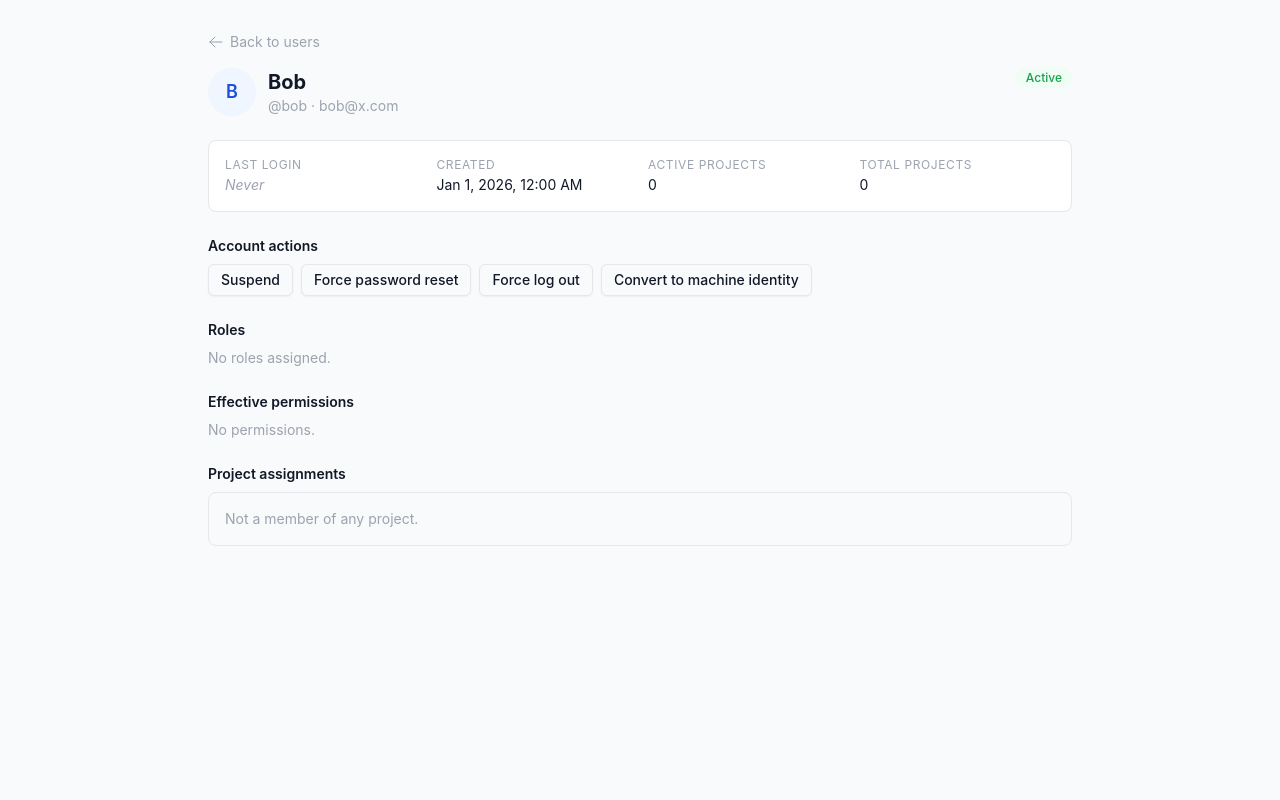
Test: UserDetailPage — convert to machine identity › shows a success note naming the created identity on migrate success
Click the button "Convert to machine identity": (706, 280) [601,264,812,296]
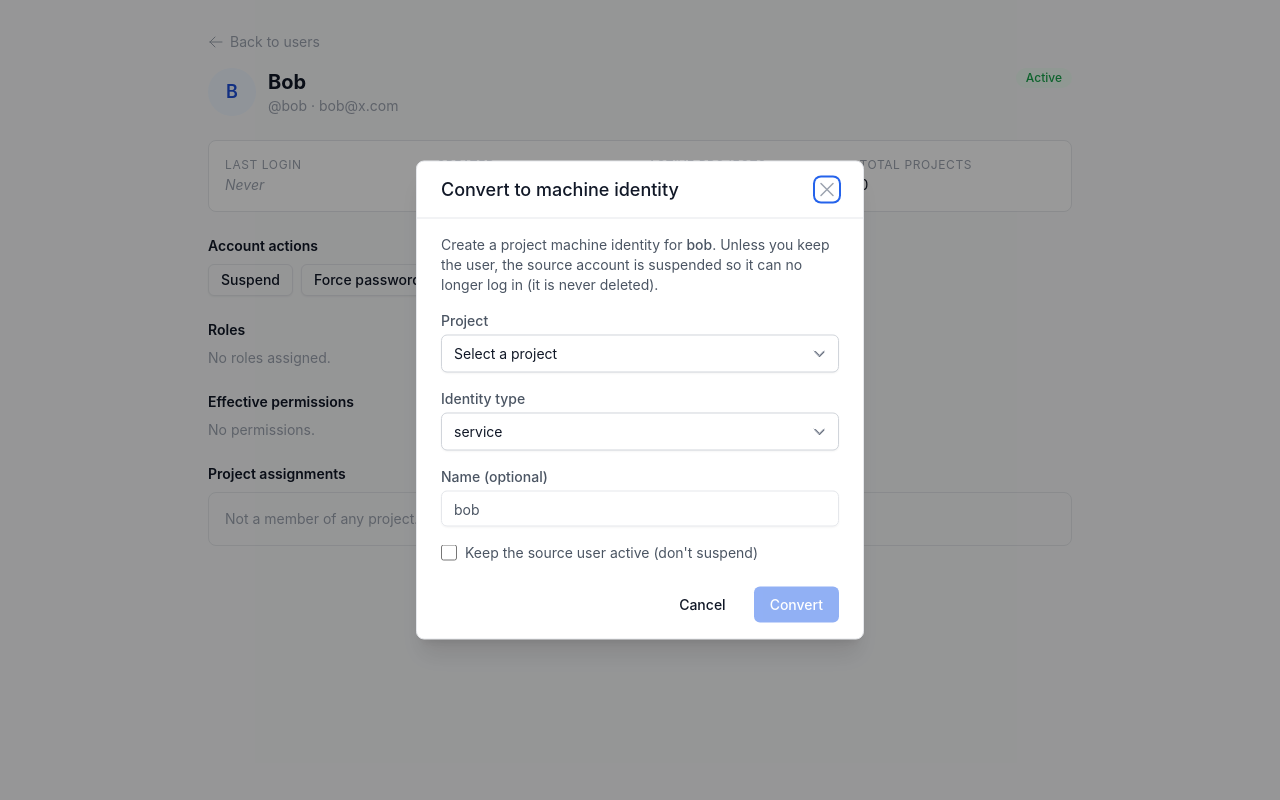
Select "platform" in the dropdown labelled "Project": (640, 354) [441,334,839,372]
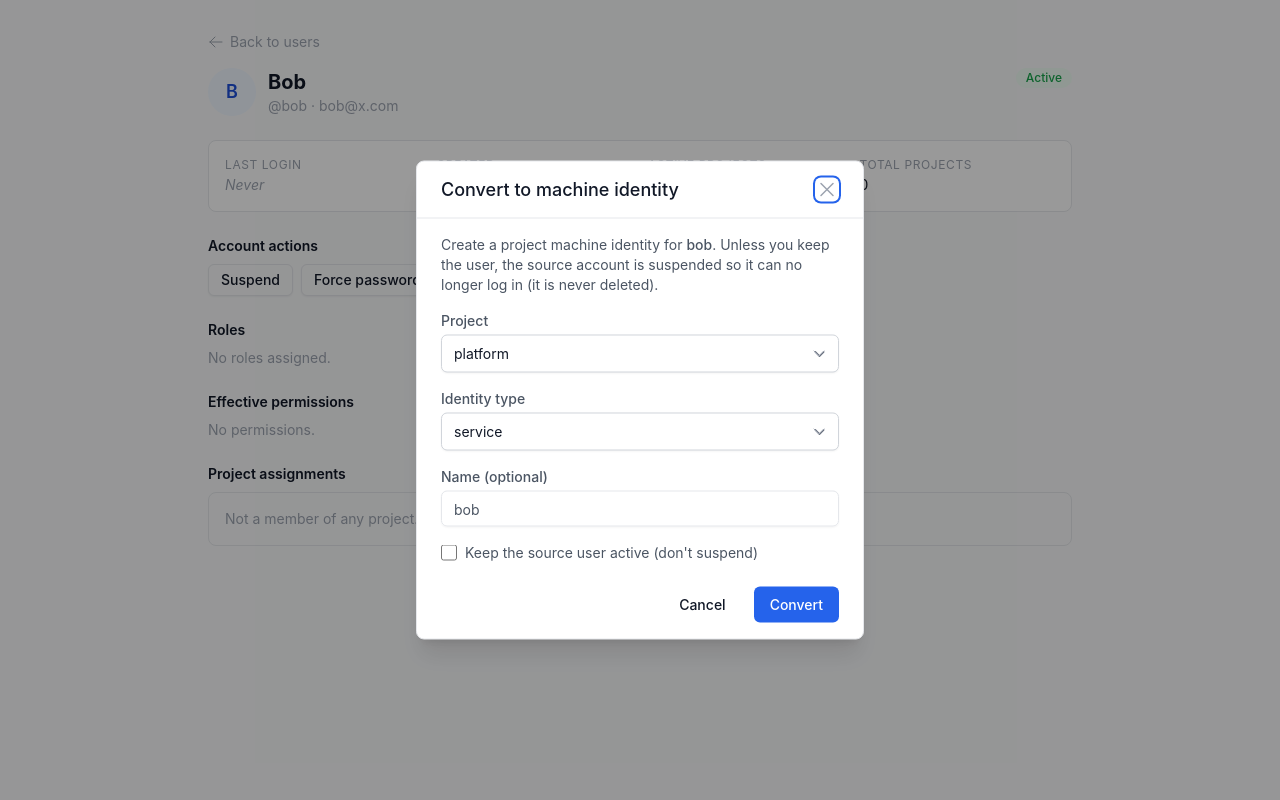
Click the button "Convert": (796, 604) [754,586,839,622]
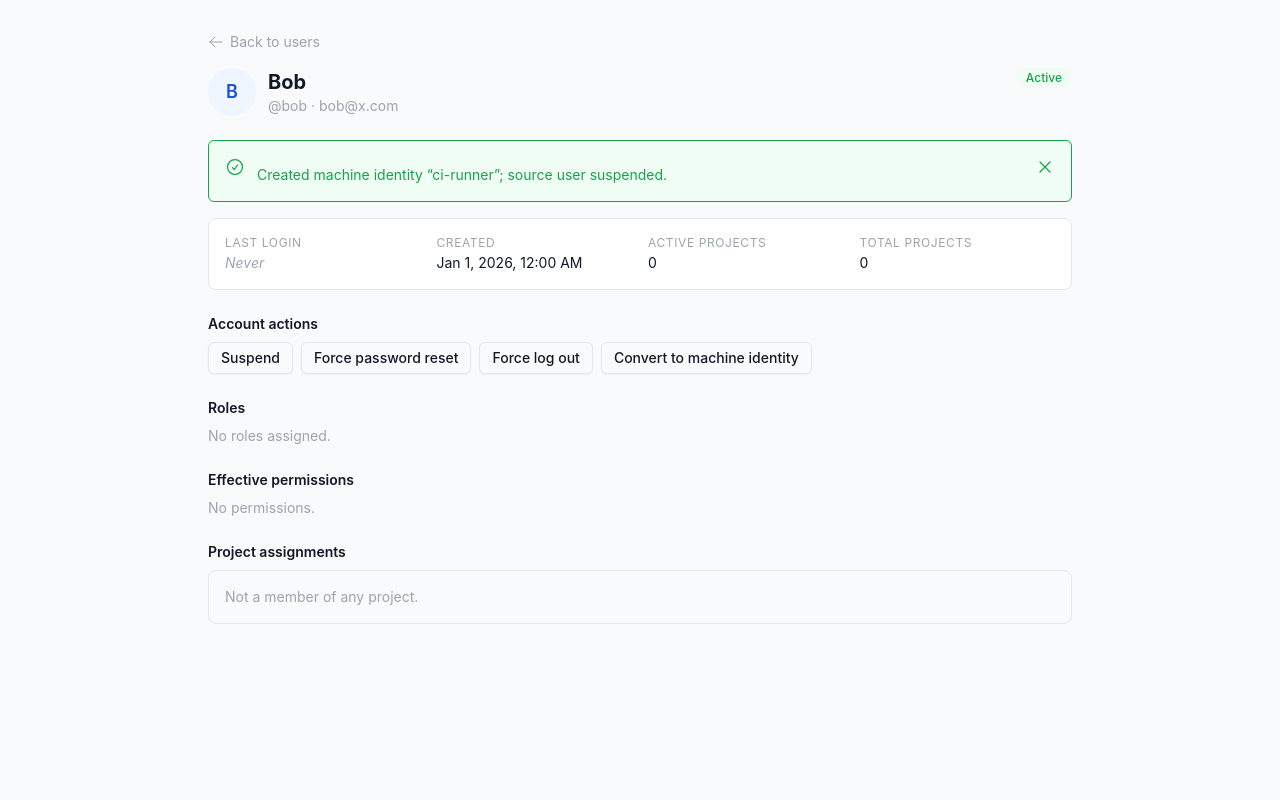
Check: the text "Created machine identity “ci-runner”; source user suspended." is shown, box [257,166,667,183]
